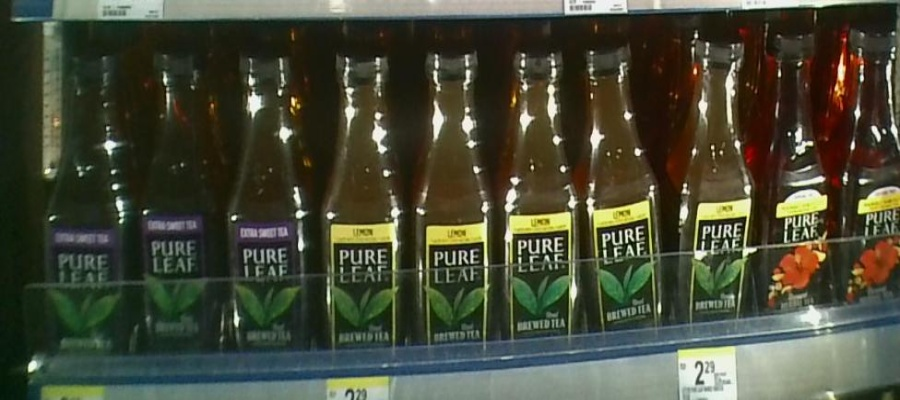bottle: (42, 50, 136, 367), (226, 46, 315, 361), (319, 54, 409, 360), (137, 47, 222, 366), (669, 33, 754, 345), (412, 46, 494, 360), (586, 38, 667, 348), (499, 44, 581, 350), (758, 29, 837, 338), (842, 29, 900, 320)
